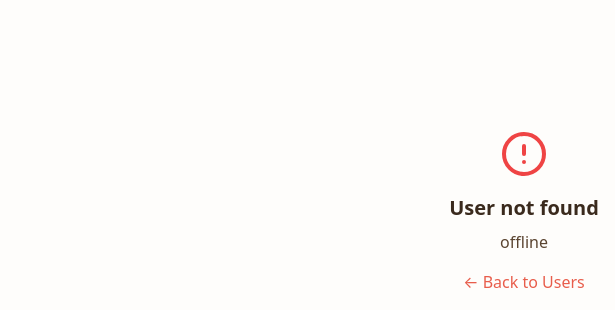
restorable admin user navigation › preserves the validated list return when a user detail is unavailable
Click the link "← Back to Users": (524, 282) [463,271,585,293]
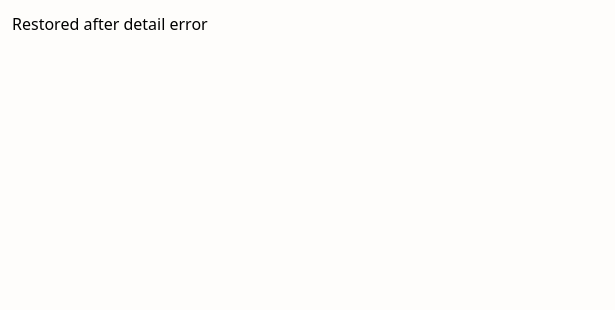
Expected: the text "Restored after detail error" is shown, [12,13,208,35]
